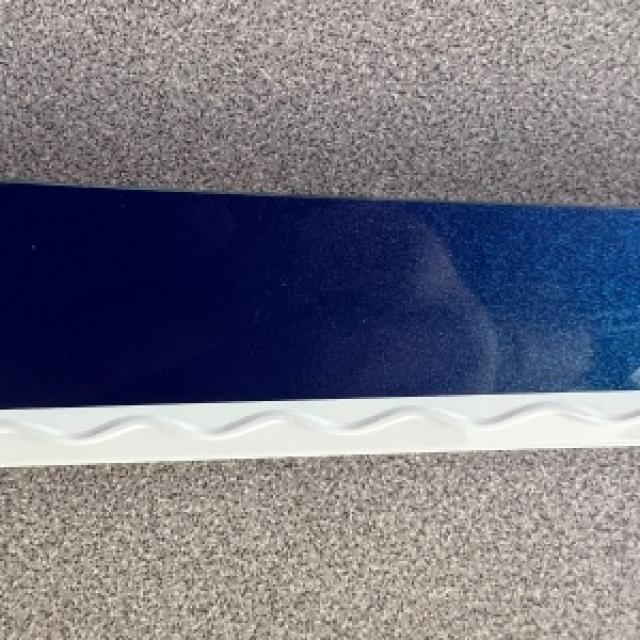healthy: (0, 183, 638, 465)
